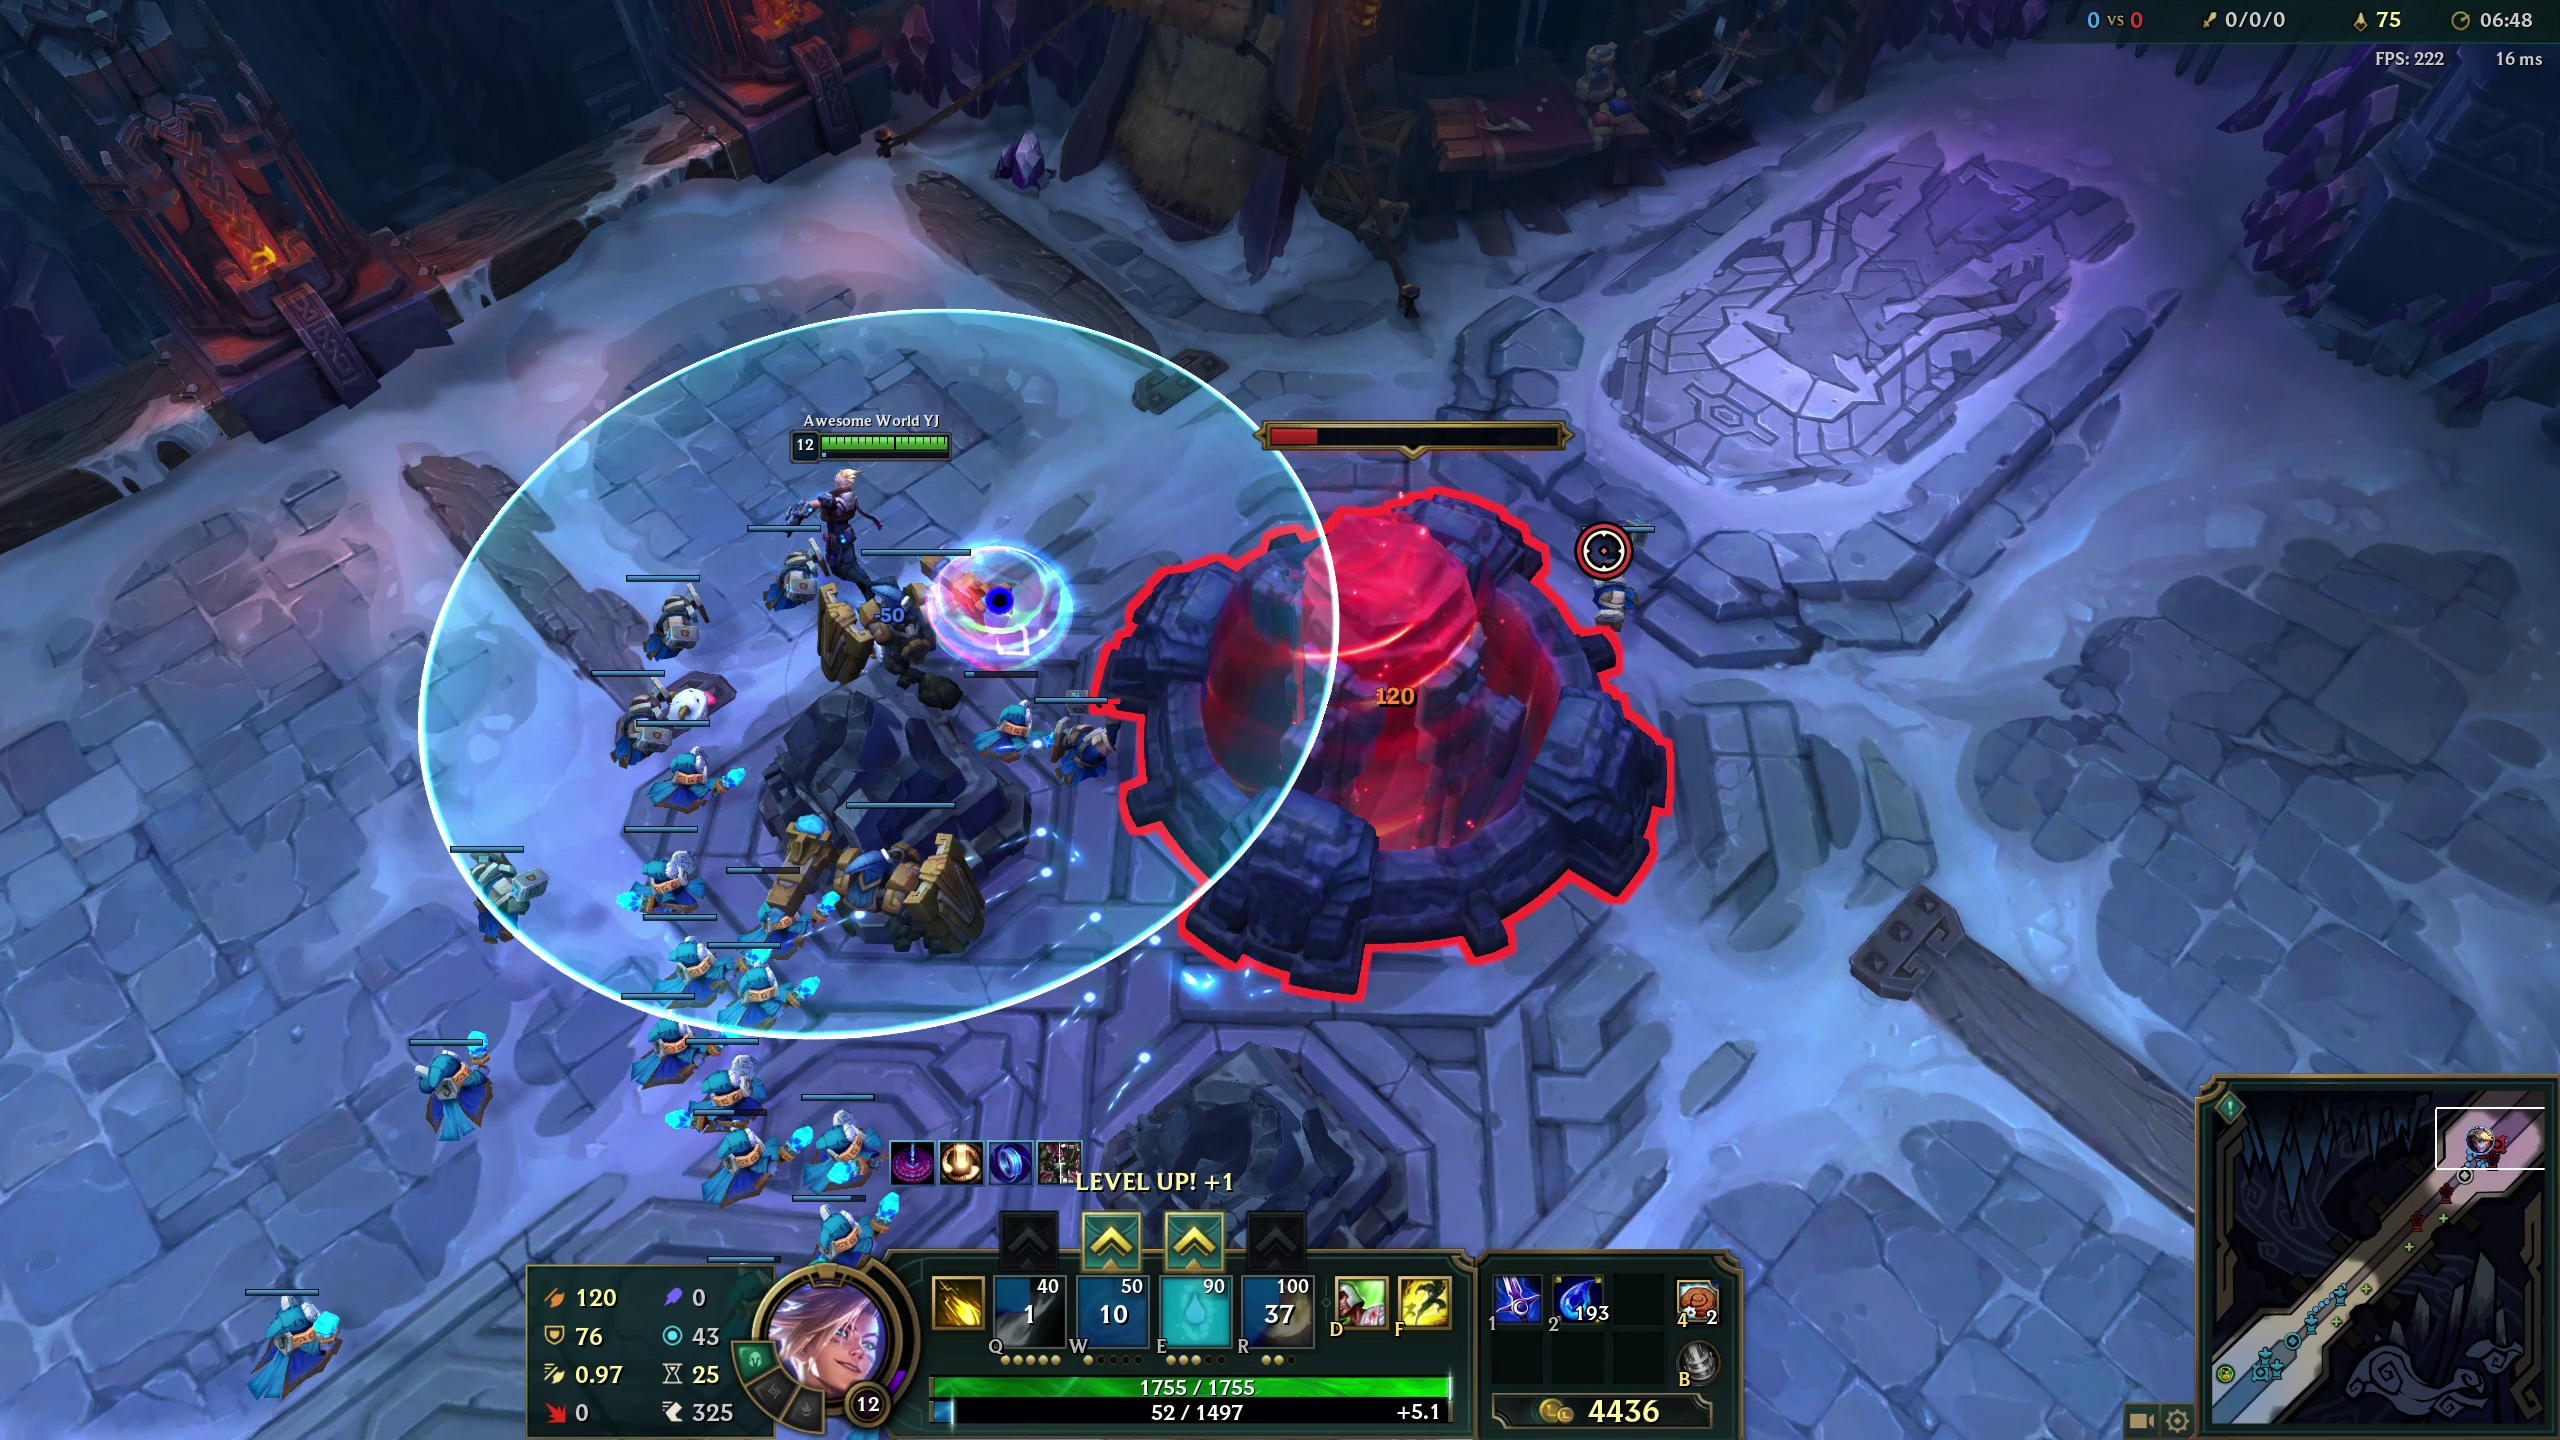EZ: (789, 438, 918, 591)
Inhibitor: (1197, 557, 1626, 898)
MyMinion: (413, 1030, 533, 1129), (598, 988, 717, 1087), (617, 566, 737, 663), (438, 832, 557, 928), (246, 1289, 366, 1385), (791, 1088, 911, 1185), (687, 1102, 807, 1199), (716, 939, 835, 1036), (622, 905, 742, 1002), (946, 658, 1065, 754), (615, 819, 733, 916), (723, 840, 840, 937), (811, 1183, 928, 1280), (1036, 695, 1153, 791)
MySuperMinnion: (844, 804, 976, 958)
